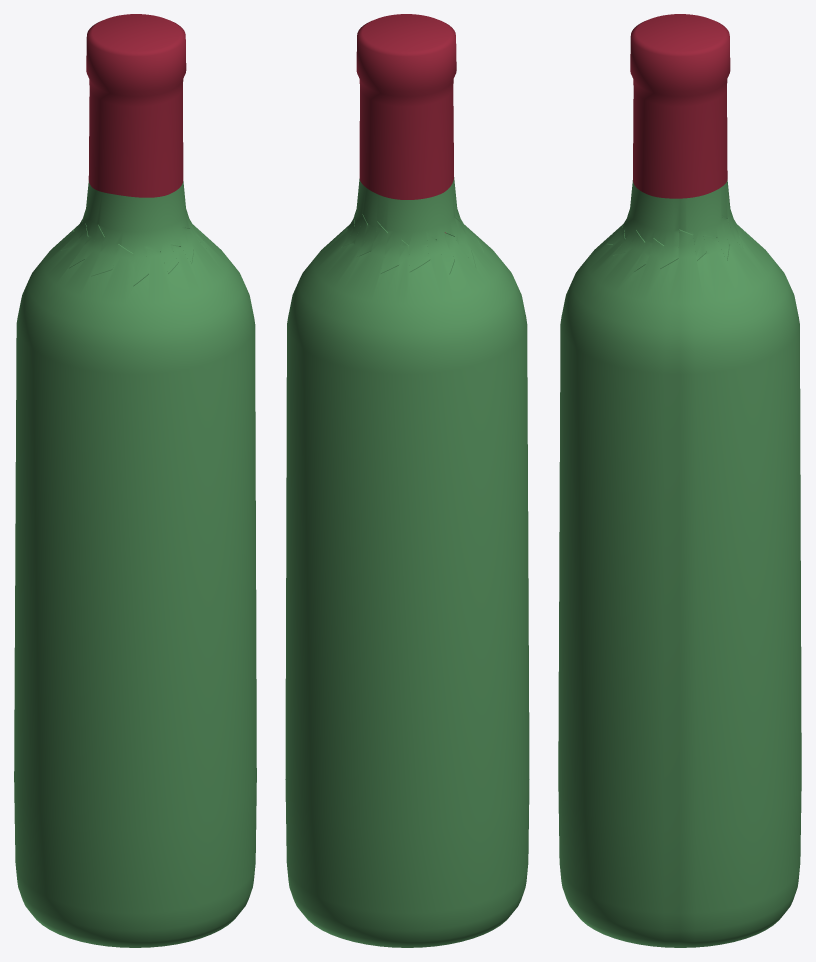
The model's file is bottle_bordeaux_broken.glb.
3 views of the same model, side by side, from view 1: azimuth 30°, elevation 25°; view 2: azimuth 150°, elevation 25°; view 3: azimuth 270°, elevation 25° (orthographic).
Visible parts, largest first — view 1: Glass.001, Cap, Neck; view 2: Glass.001, Cap, Neck; view 3: Glass.001, Cap, Neck.
Boxes of the visible parts, <box> form: Glass.001: <box>14,213,256,947</box>; Cap: <box>86,14,186,197</box>; Neck: <box>61,180,209,285</box>; Glass.001: <box>285,214,529,947</box>; Cap: <box>356,14,456,199</box>; Neck: <box>341,177,483,273</box>; Glass.001: <box>558,207,801,947</box>; Cap: <box>630,14,730,198</box>; Neck: <box>607,179,750,271</box>.
Size of the model in its own units: 0.076 by 0.3008 by 0.0759.
